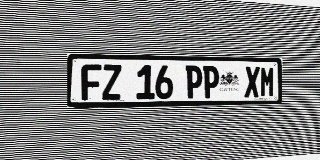1: (136, 65, 155, 99)
6: (155, 65, 173, 99)
F: (81, 64, 101, 100)
M: (260, 66, 275, 97)
P: (185, 66, 202, 99), (203, 66, 219, 98)
X: (244, 66, 260, 98)
Z: (102, 64, 121, 100)
